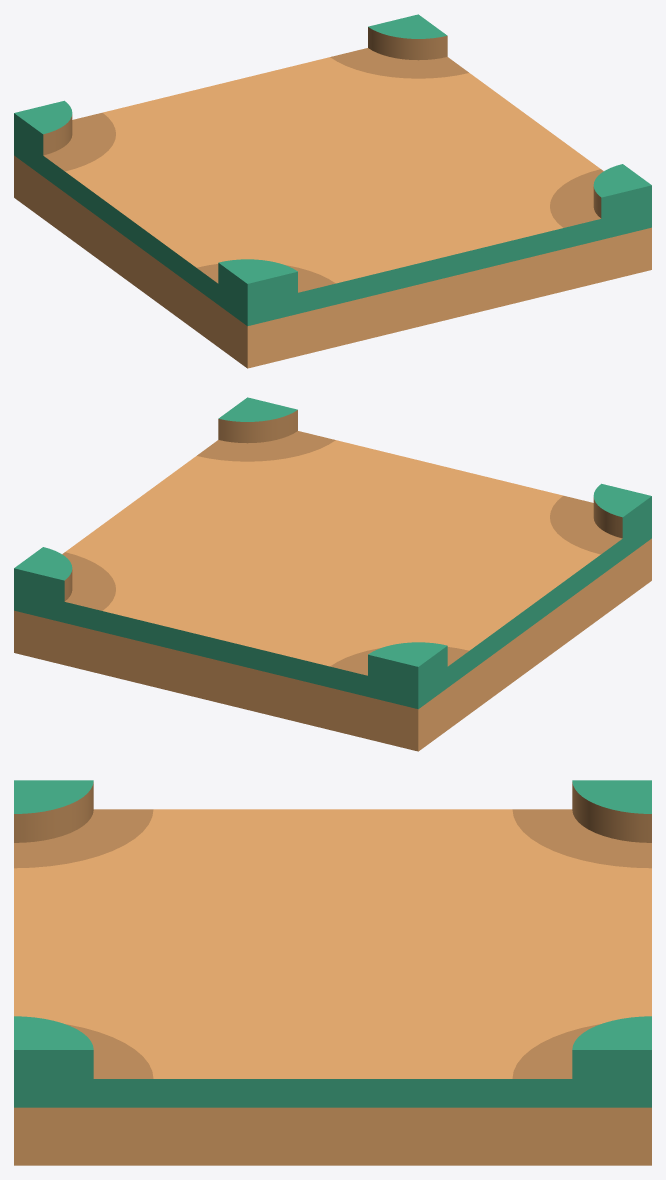
File: tile_crossing.dae
The picture shows the model from 3 angles, top to bottom: view 1: azimuth 30°, elevation 25°; view 2: azimuth 150°, elevation 25°; view 3: azimuth 270°, elevation 25°; orthographic projection. The views are drawn at different scales.
Parts seen in each view (by area): view 1: tile_crossing; view 2: tile_crossing; view 3: tile_crossing.
Part boxes in pixels (x1,y1,x2,y2): tile_crossing: (14,14,651,368); tile_crossing: (14,397,651,751); tile_crossing: (14,780,651,1165).
Size of the model in its own units: 1 by 0.2 by 1.
